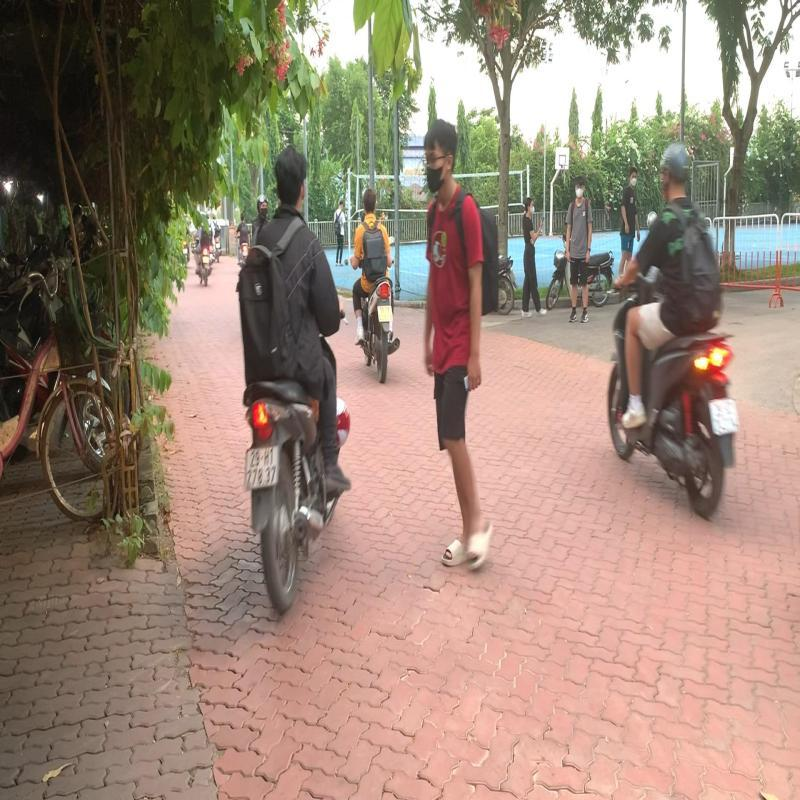nohelmet: (272, 140, 310, 209)
